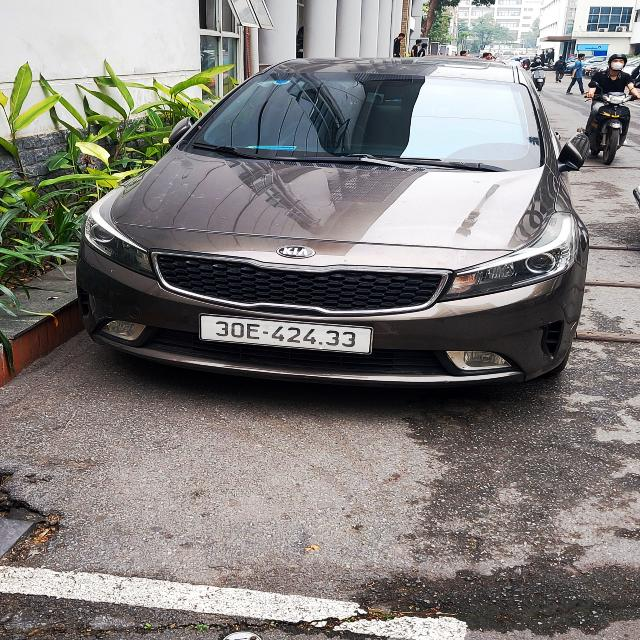license_plate: (202, 315, 373, 353)
